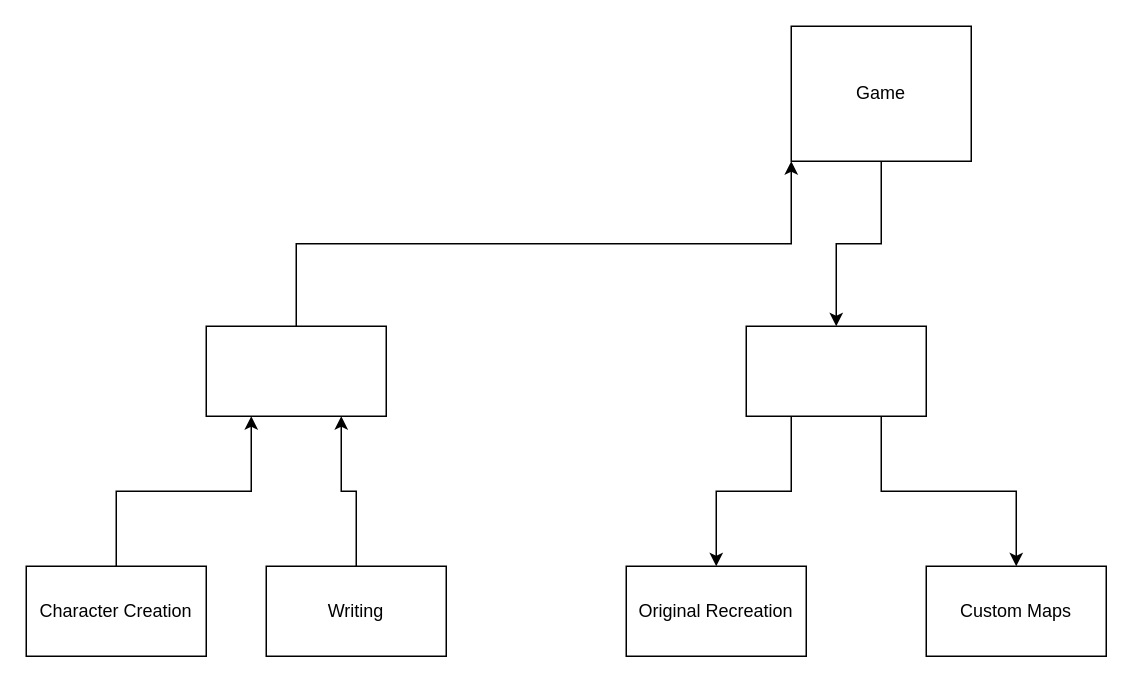
Some shapes in this 1133 by 683 pixel diagram are drawn without their labels. Here are the shapes that lost their labels. From the top down, the centre of each, then its label:
(x=295, y=370): Story
(x=835, y=370): Maps
